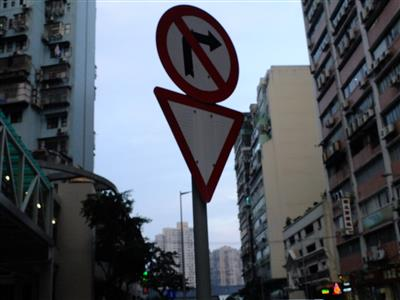noRightTurn: (155, 1, 239, 103)
yield: (150, 84, 246, 208)
